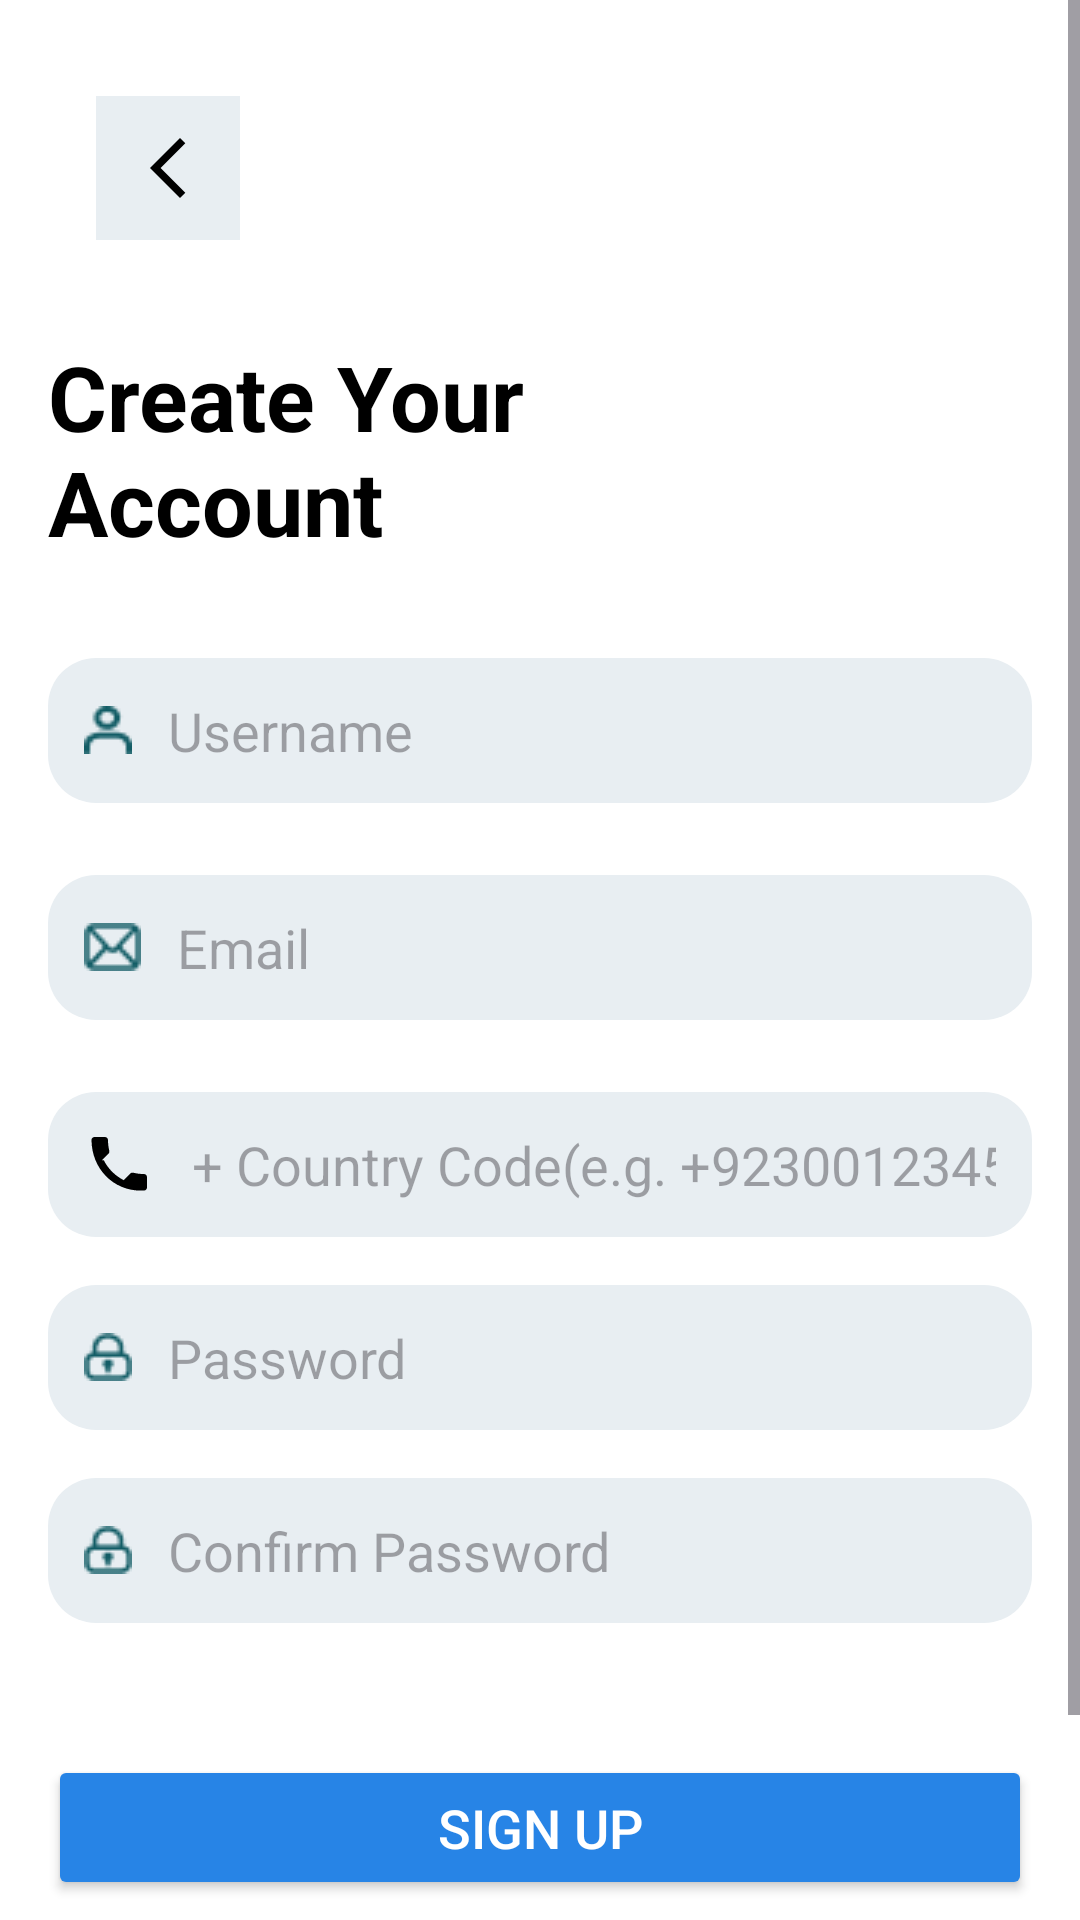

Point at icon controls on the screen. Image size 1080x1920, points as point (x, y).
Back Button: point (168, 168)
